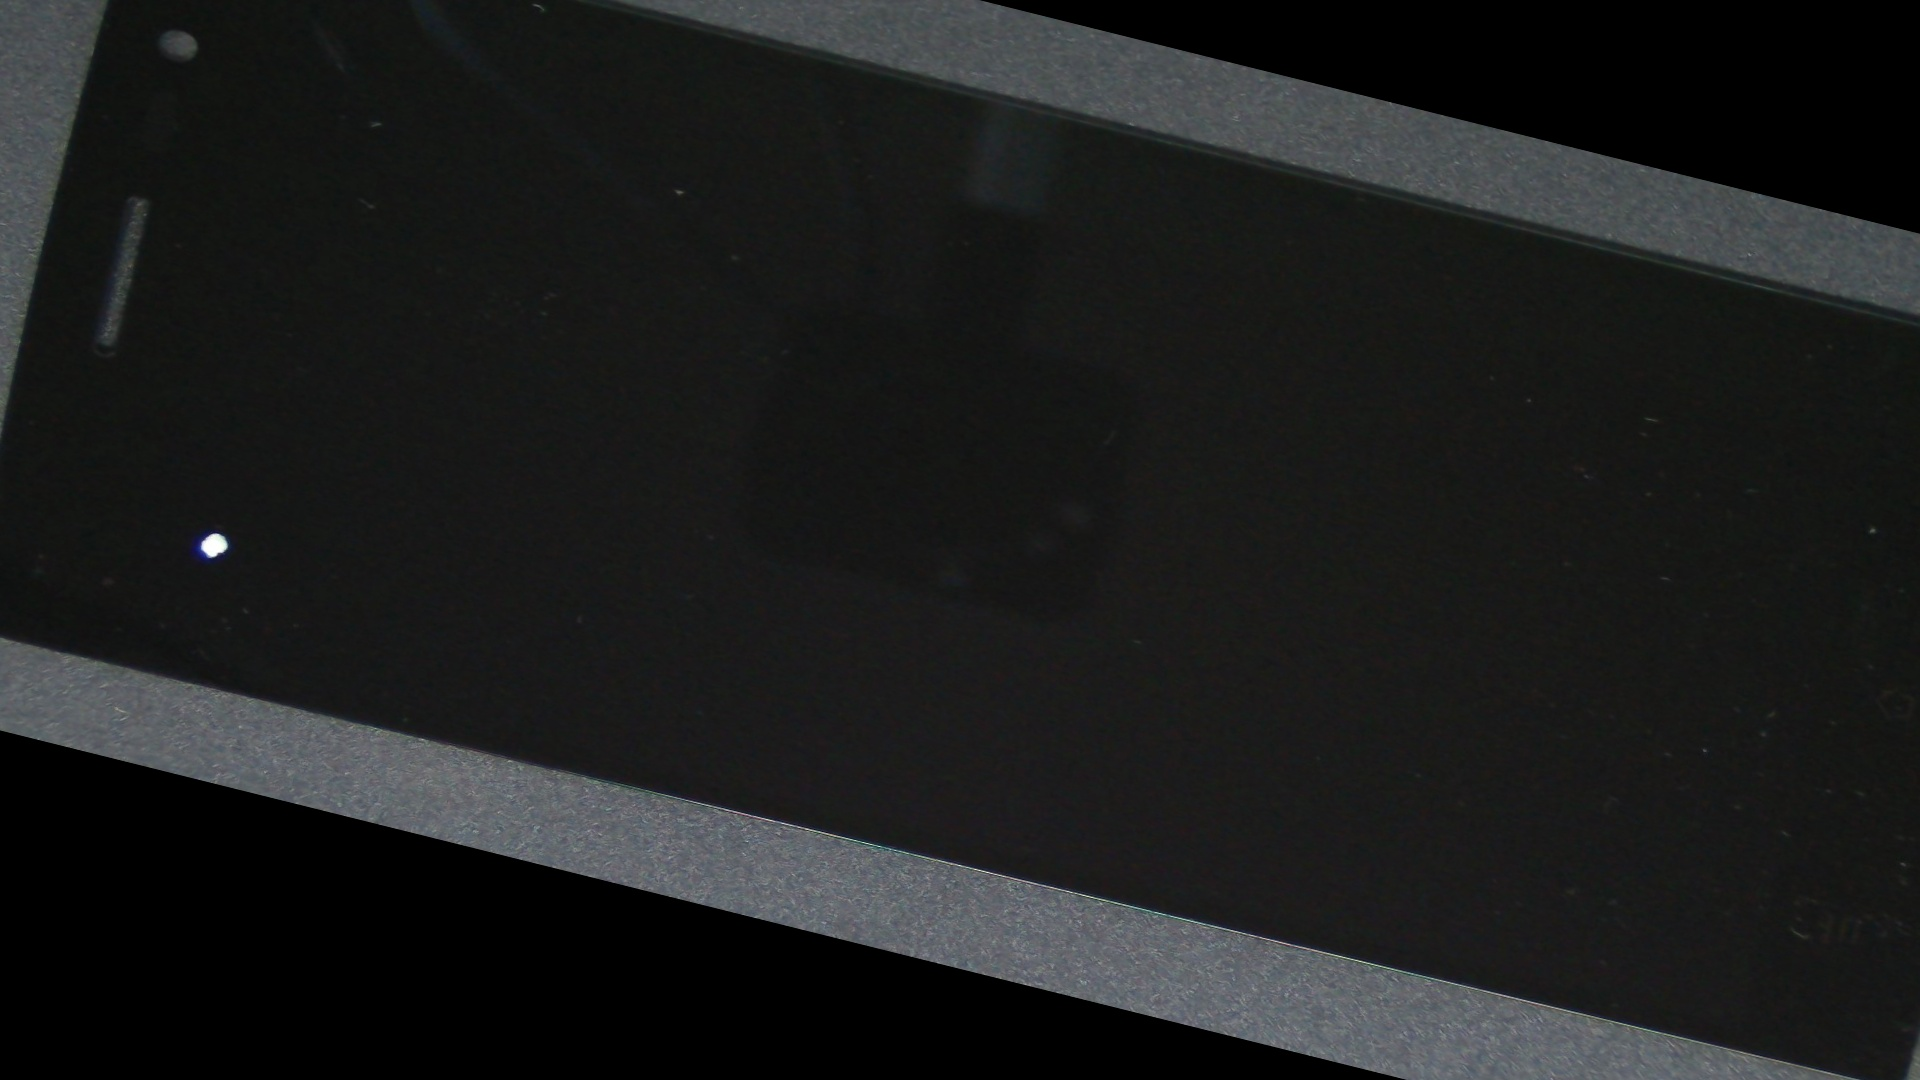oil: (0, 149, 472, 812)
